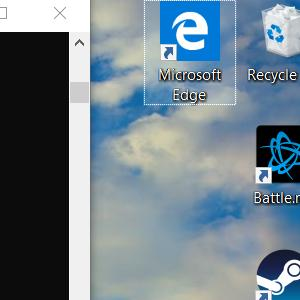edge: (160, 1, 220, 61)
